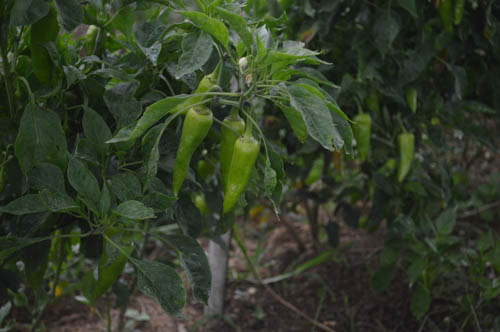ChiliPepper: (177, 109, 211, 196), (96, 228, 134, 302), (224, 141, 261, 209), (217, 118, 244, 186), (176, 77, 219, 119), (394, 132, 411, 182), (353, 115, 370, 159)
